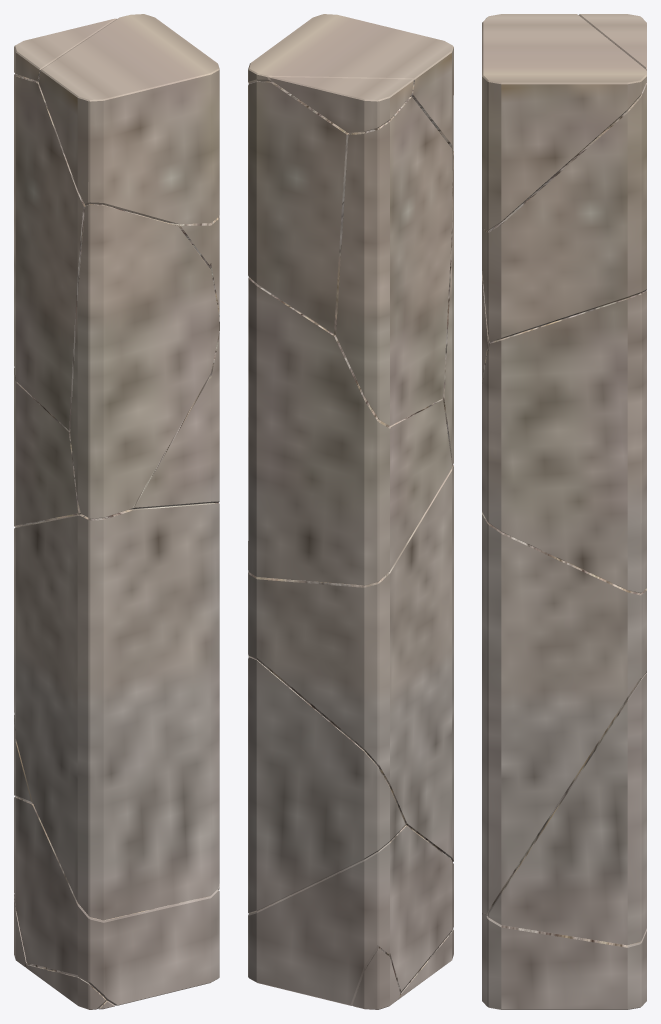
Rendered from column-rod-rigid.glb.
The picture shows the model from 3 angles, left to right: view 1: azimuth 30°, elevation 25°; view 2: azimuth 150°, elevation 25°; view 3: azimuth 270°, elevation 25°; orthographic projection.
Visible parts, largest first — view 1: column_Rod_cell.008-rigid, column_Rod_cell.003-rigid, column_Rod_cell.011-rigid, column_Rod_cell.006-rigid, column_Rod_cell.004-rigid, column_Rod_cell.007-rigid, column_Rod_cell.010-rigid, column_Rod_cell.012-rigid, column_Rod_cell.001-rigid, column_Rod_cell-rigid; view 2: column_Rod_cell.007-rigid, column_Rod_cell.008-rigid, column_Rod_cell.004-rigid, column_Rod_cell-rigid, column_Rod_cell.006-rigid, column_Rod_cell.012-rigid, column_Rod_cell.011-rigid, column_Rod_cell.010-rigid, column_Rod_cell.002-rigid, column_Rod_cell.003-rigid, column_Rod_cell.001-rigid; view 3: column_Rod_cell.007-rigid, column_Rod_cell.008-rigid, column_Rod_cell.012-rigid, column_Rod_cell.011-rigid, column_Rod_cell-rigid, column_Rod_cell.006-rigid, column_Rod_cell.010-rigid, column_Rod_cell.003-rigid.
Boxes of the visible parts, x1,y1,x2,y2 form: column_Rod_cell.008-rigid: [14, 503, 219, 920]; column_Rod_cell.003-rigid: [70, 204, 219, 518]; column_Rod_cell.011-rigid: [38, 14, 219, 224]; column_Rod_cell.006-rigid: [14, 797, 219, 1005]; column_Rod_cell.004-rigid: [14, 74, 85, 430]; column_Rod_cell.007-rigid: [14, 332, 219, 527]; column_Rod_cell.010-rigid: [14, 18, 116, 81]; column_Rod_cell.012-rigid: [168, 215, 219, 321]; column_Rod_cell.001-rigid: [26, 965, 105, 1009]; column_Rod_cell-rigid: [14, 715, 219, 889]; column_Rod_cell.007-rigid: [248, 277, 452, 585]; column_Rod_cell.008-rigid: [248, 465, 453, 861]; column_Rod_cell.004-rigid: [336, 96, 452, 425]; column_Rod_cell-rigid: [248, 657, 405, 913]; column_Rod_cell.006-rigid: [248, 825, 453, 1005]; column_Rod_cell.012-rigid: [248, 81, 348, 334]; column_Rod_cell.011-rigid: [248, 14, 453, 153]; column_Rod_cell.010-rigid: [270, 77, 413, 133]; column_Rod_cell.002-rigid: [352, 948, 400, 1009]; column_Rod_cell.003-rigid: [443, 151, 453, 465]; column_Rod_cell.001-rigid: [399, 929, 453, 998]; column_Rod_cell.007-rigid: [482, 289, 646, 593]; column_Rod_cell.008-rigid: [482, 512, 646, 914]; column_Rod_cell.012-rigid: [482, 81, 646, 342]; column_Rod_cell.011-rigid: [482, 14, 646, 230]; column_Rod_cell-rigid: [487, 673, 646, 945]; column_Rod_cell.006-rigid: [482, 913, 646, 1009]; column_Rod_cell.010-rigid: [579, 14, 646, 70]; column_Rod_cell.003-rigid: [482, 271, 490, 383].
Size of the model in its own units: 1.5 by 9.3 by 1.5.
Materials: 1 (1 with a texture image).
